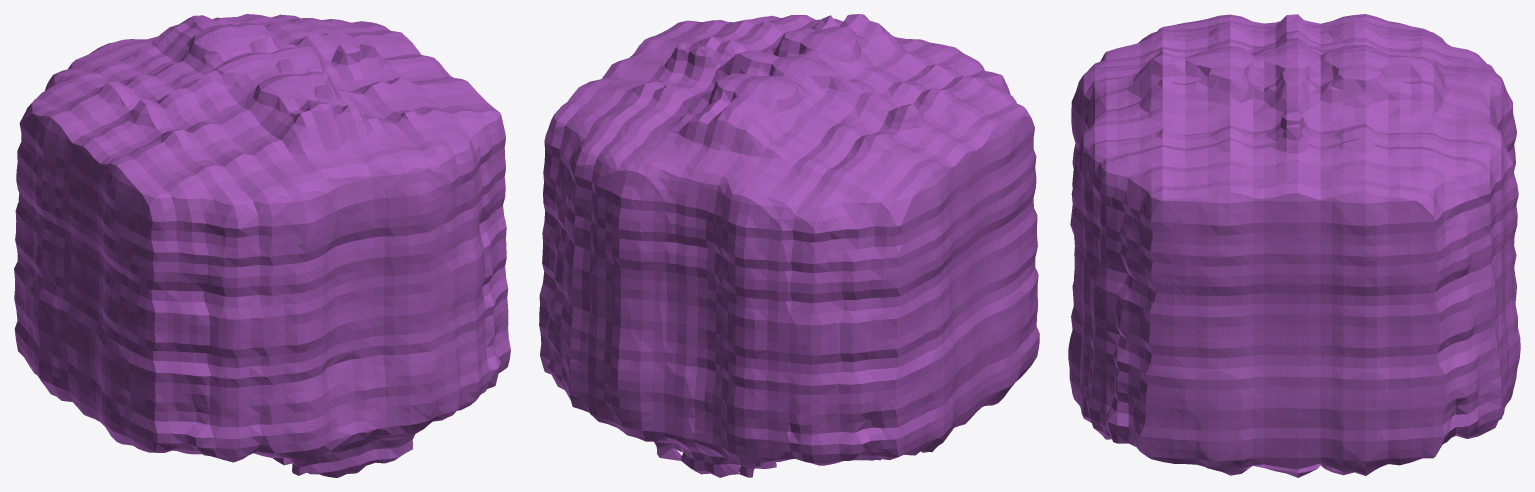
The picture shows the model from 3 angles, left to right: view 1: azimuth 30°, elevation 25°; view 2: azimuth 150°, elevation 25°; view 3: azimuth 270°, elevation 25°; orthographic projection. The views are drawn at different scales.
Visible parts, largest first — view 1: geometry_0; view 2: geometry_0; view 3: geometry_0.
Part boxes in pixels (x1,y1,x2,y2): geometry_0: [14, 14, 510, 477]; geometry_0: [539, 14, 1039, 477]; geometry_0: [1068, 14, 1520, 477].
Size of the model in its own units: 1.68 by 1.57 by 1.71.
